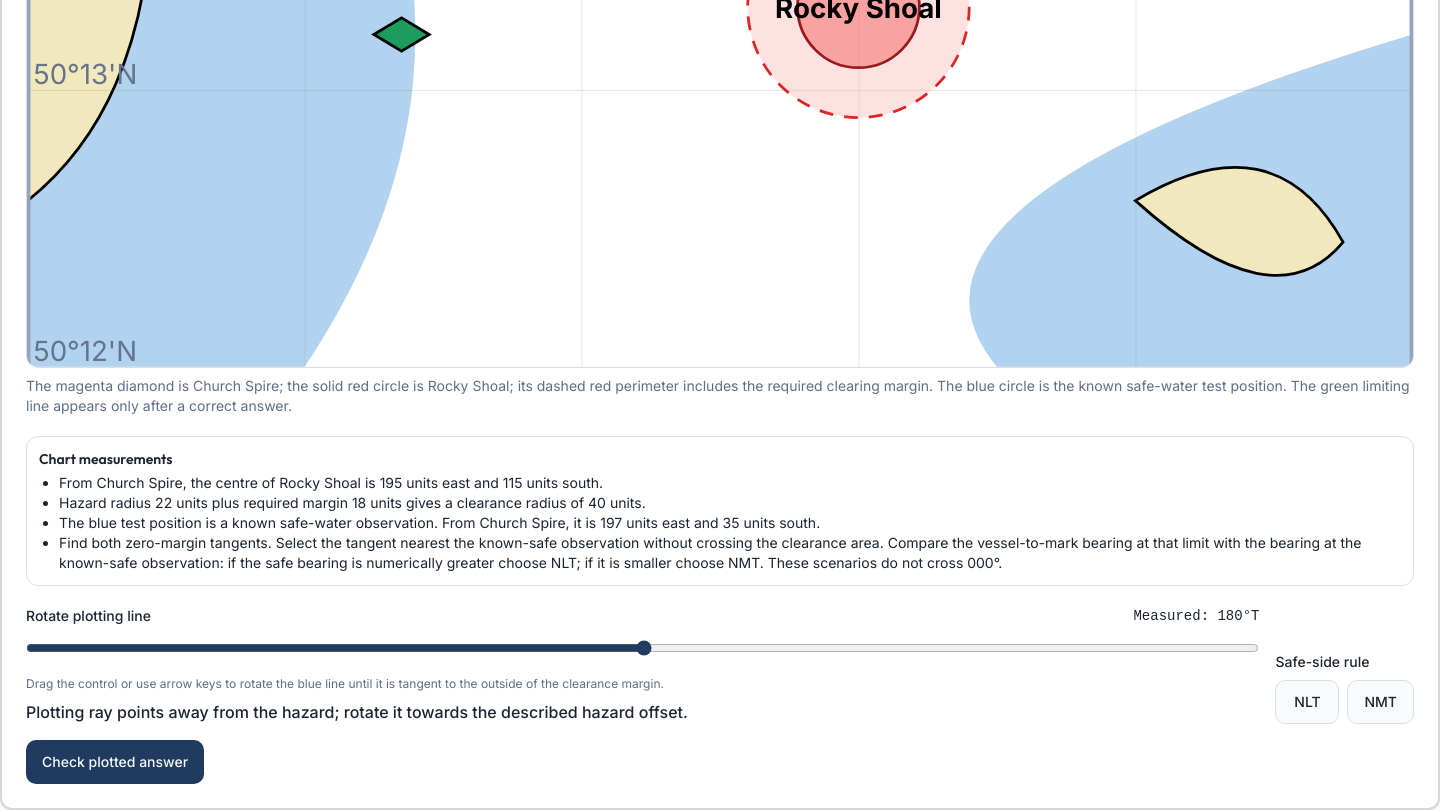
ClearingBearingTool › accepts a safe-side one-degree chart measurement
(page scrolled)
Set the slider labelled "Rotate plotting line" to "290": [1017, 648] box [26, 626, 1260, 670]
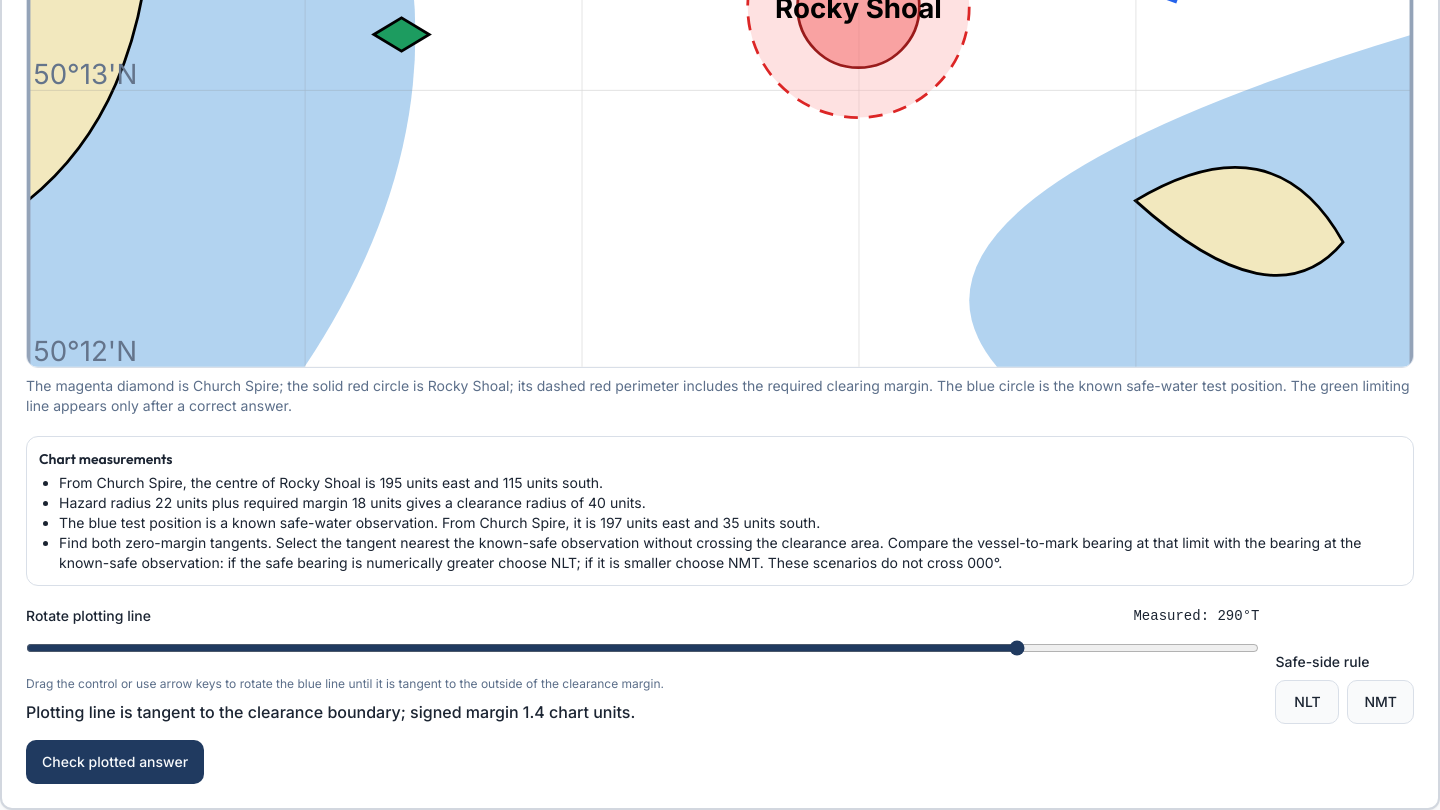
Click the button "NMT": [1381, 702] box [1348, 680, 1414, 724]
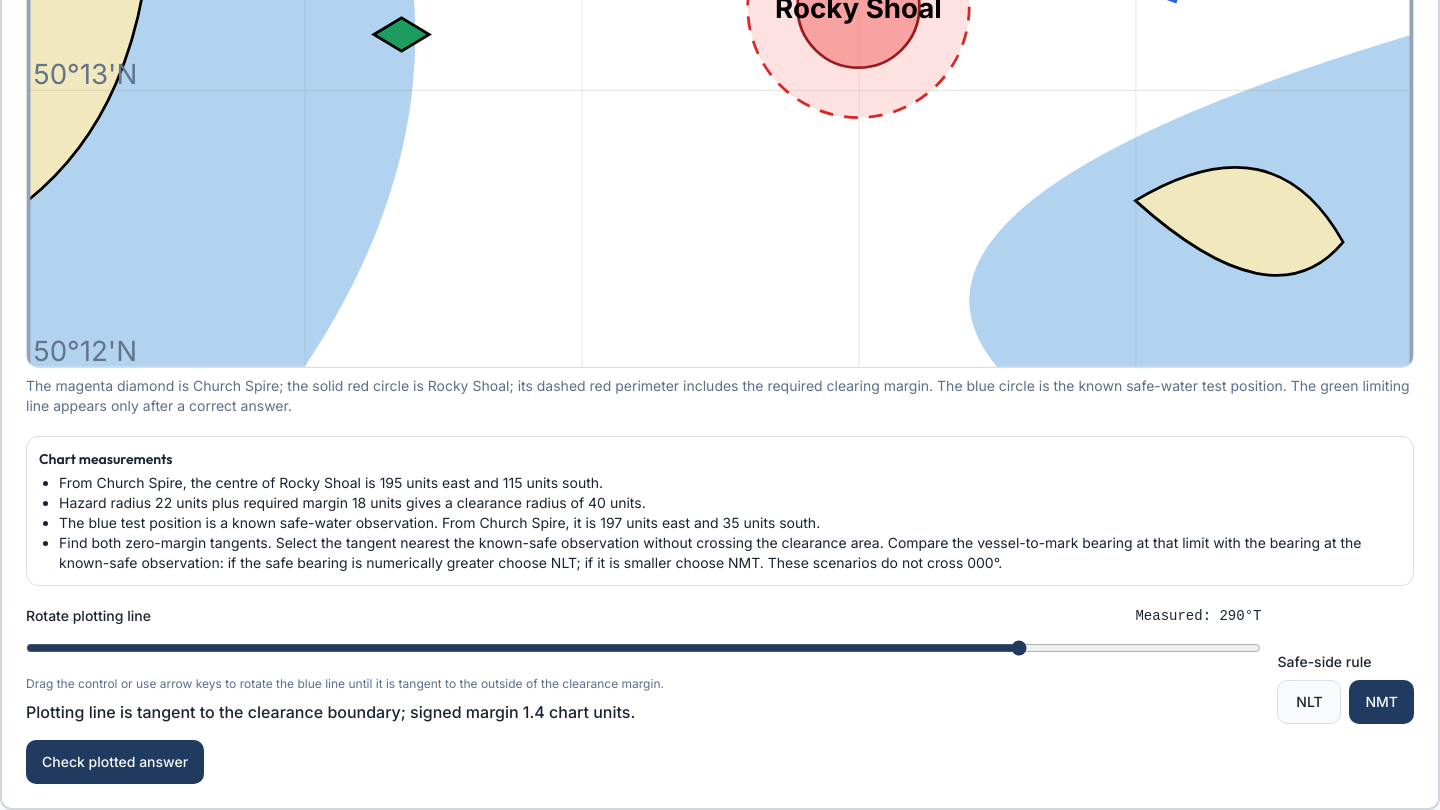
Click the button "Check plotted answer": [115, 762] box [26, 740, 204, 784]
(page scrolled)
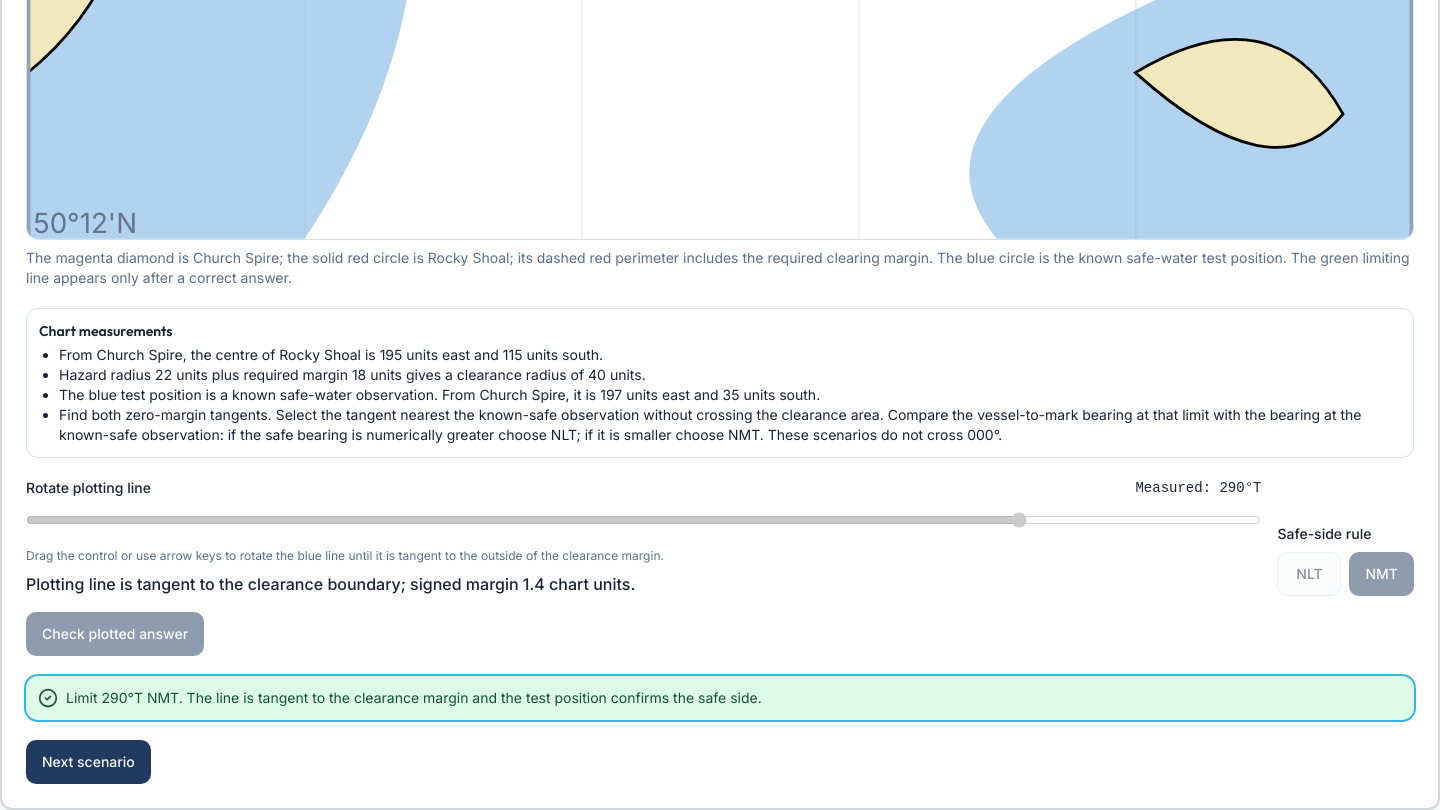
Check: the text "Limit 290°T NMT" is shown, box [66, 689, 762, 706]
